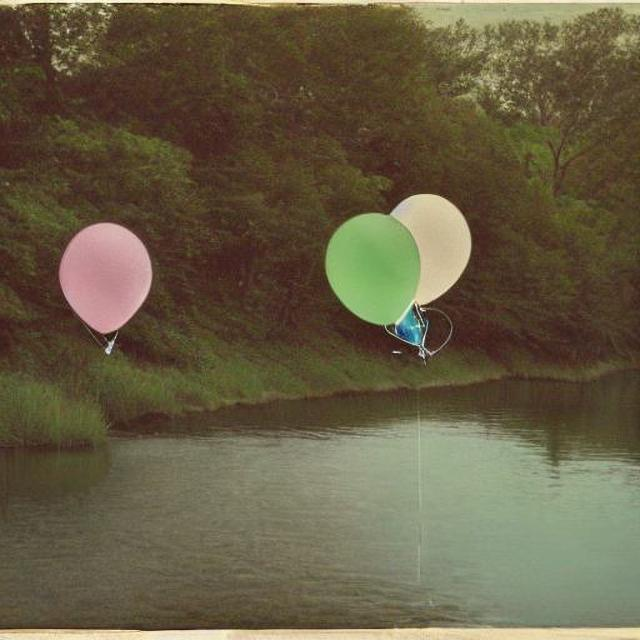balloon: (321, 194, 480, 334), (56, 218, 162, 337)
